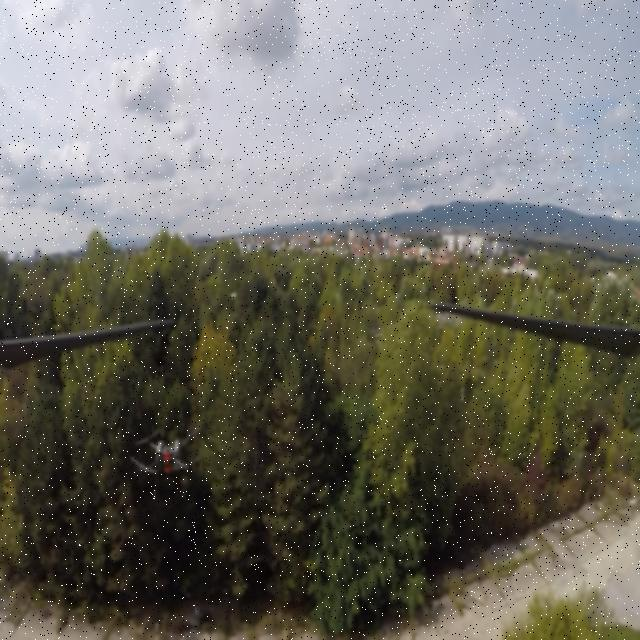UAV: (130, 422, 204, 503)
